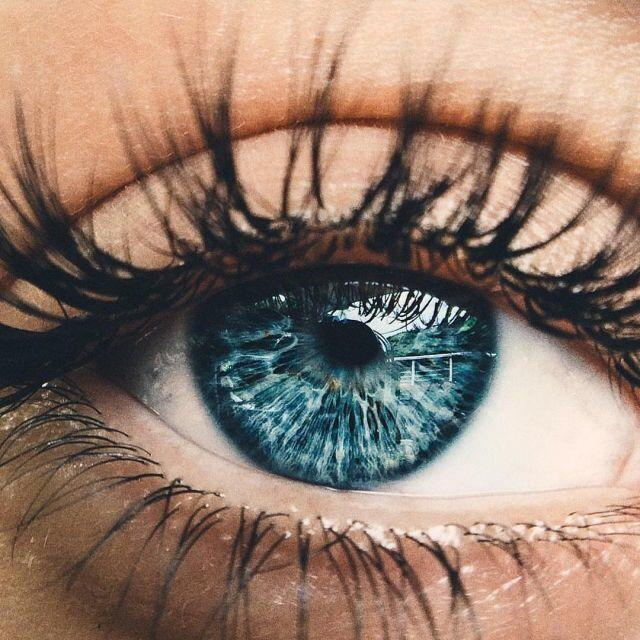eye: (91, 253, 640, 500)
iris: (196, 267, 500, 490)
